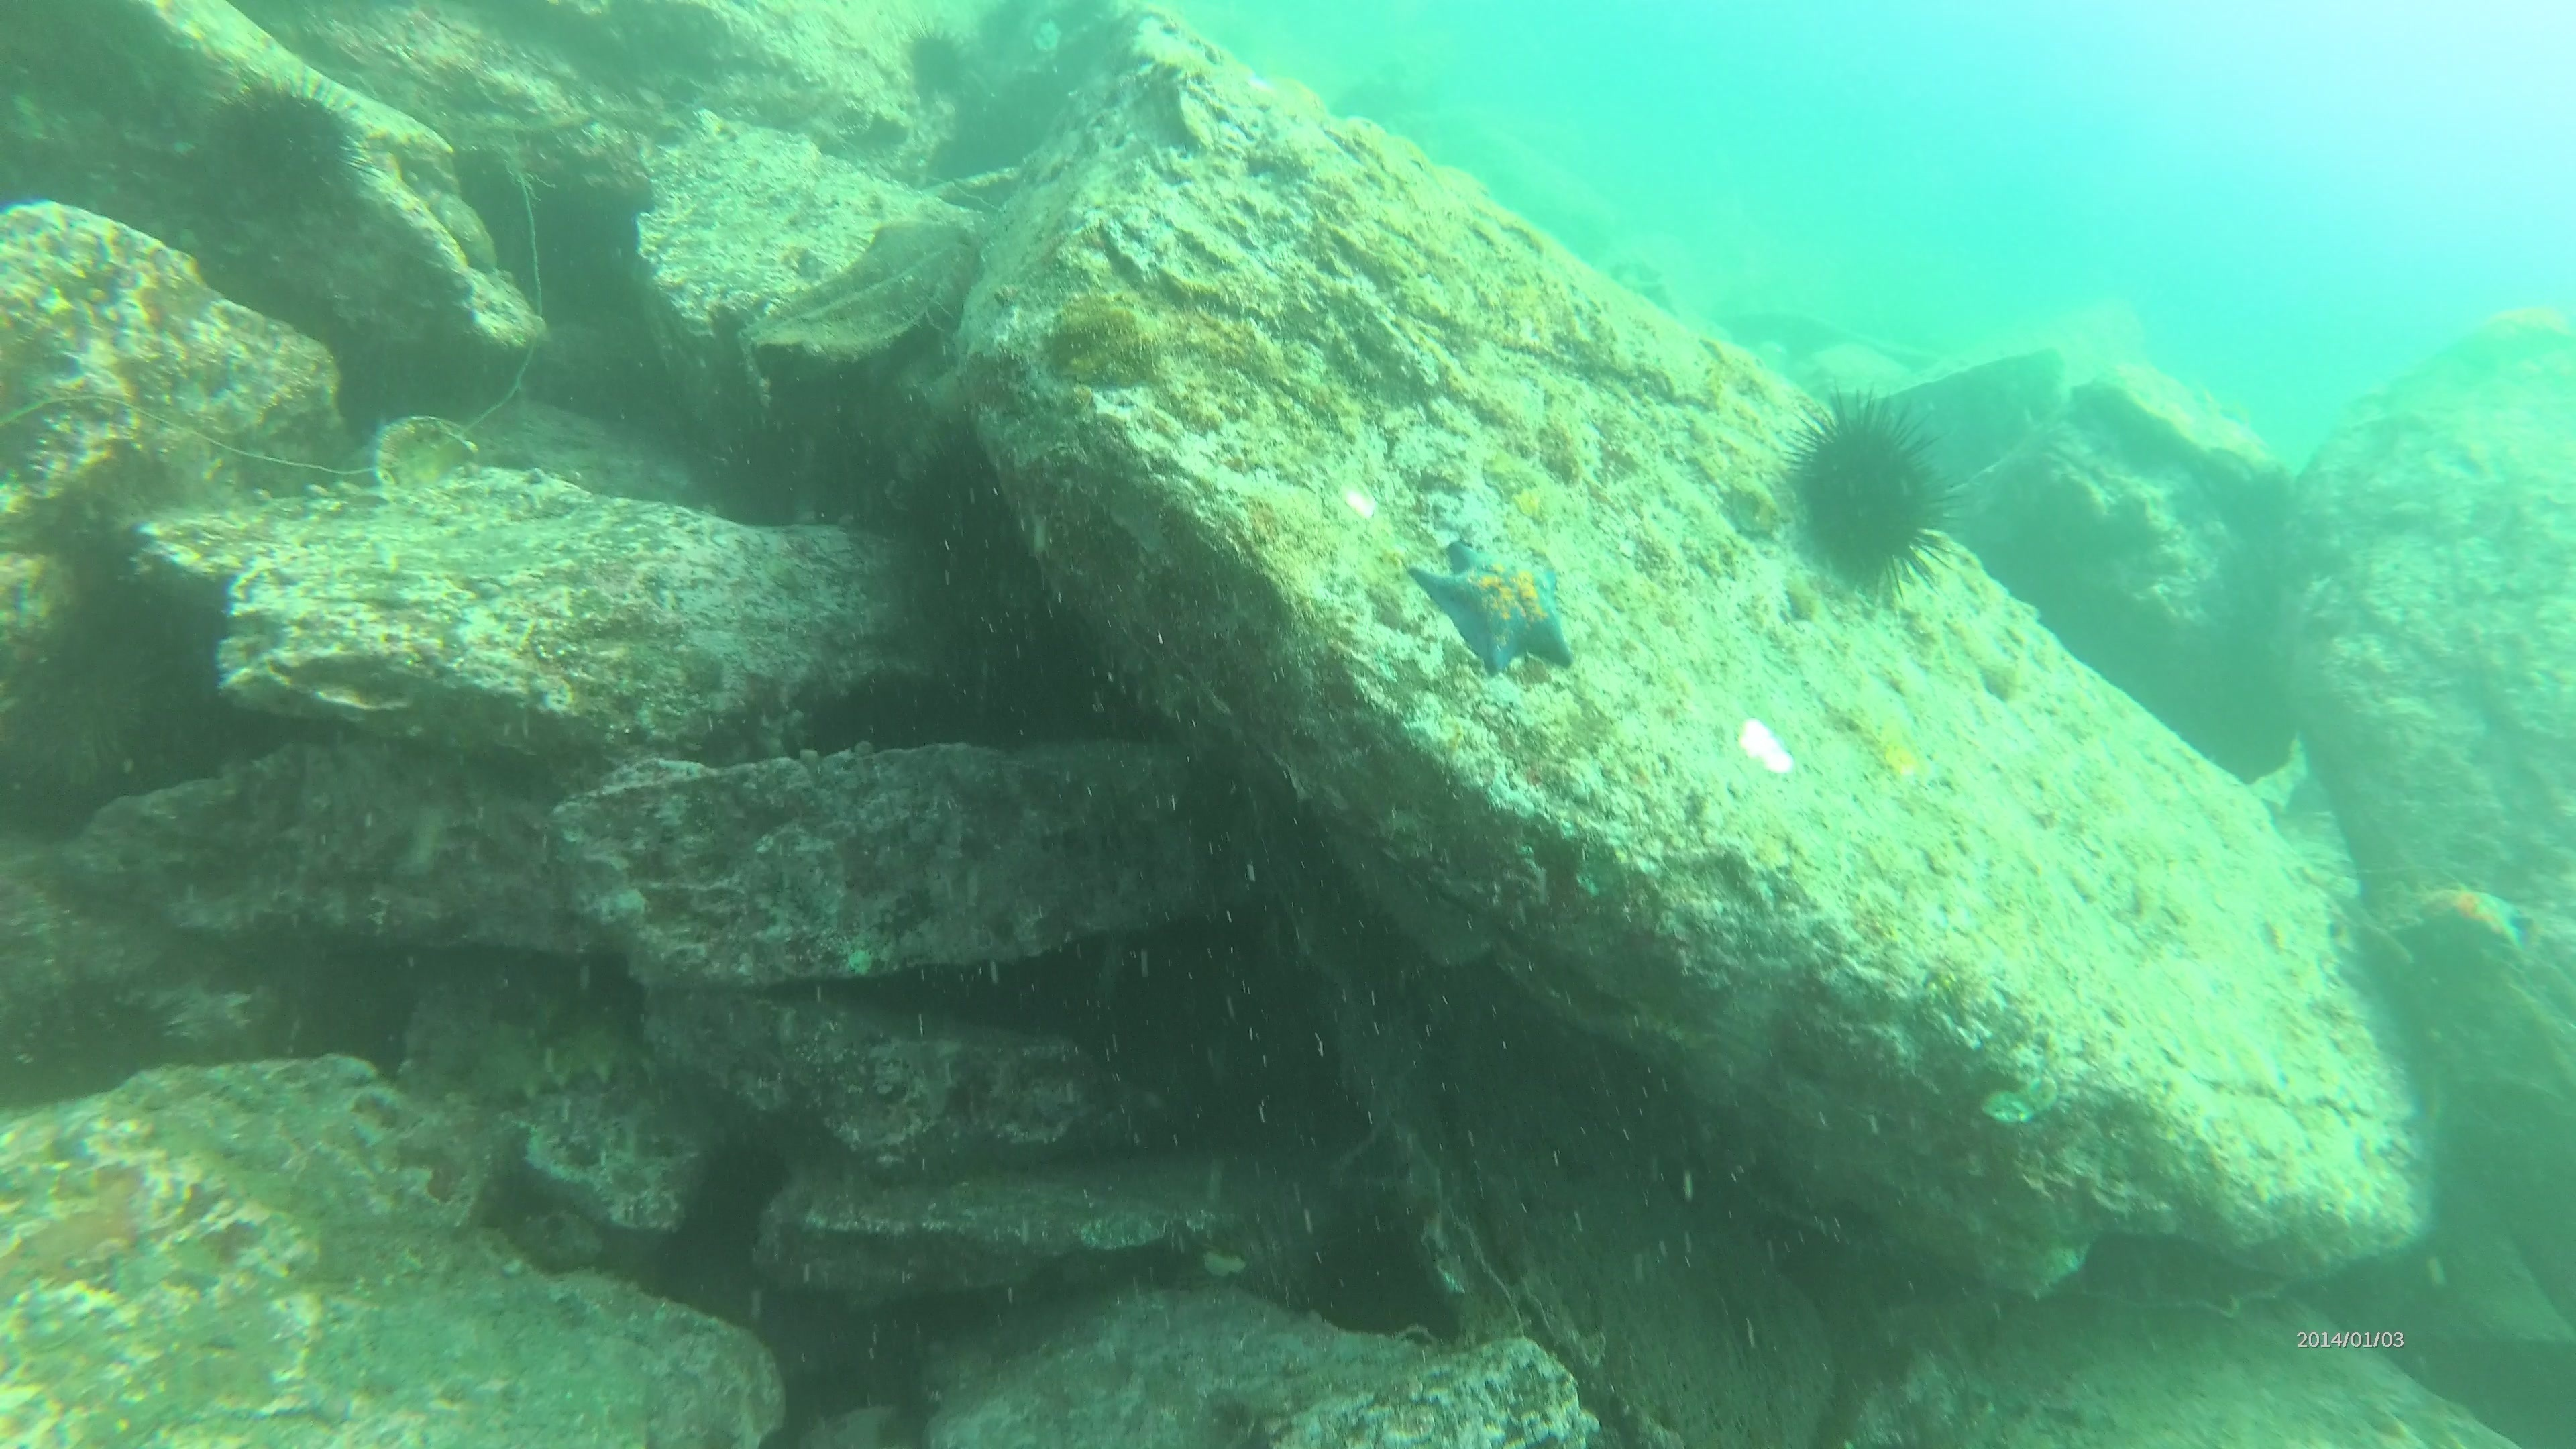echinus: (1776, 387, 1962, 600), (5, 596, 184, 800), (196, 73, 372, 232), (4, 966, 186, 1115), (895, 19, 978, 110)
holothurian: (396, 993, 656, 1116)
starfish: (1405, 533, 1582, 683), (2396, 867, 2534, 971)
